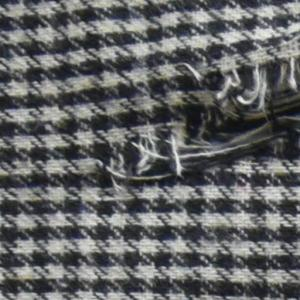Damage: (96, 46, 300, 193)
